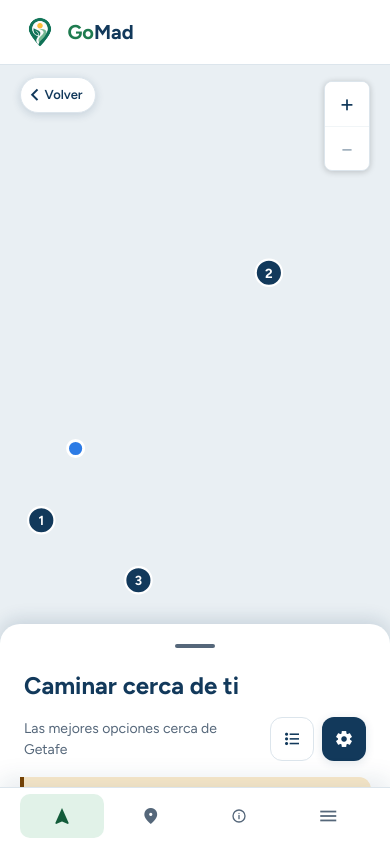
it: Resultados › permite arrastrar desde el asa aunque el contenido esté desplazado
Click the button named "Mostrar resultados": (195, 646) left=0, top=624, right=389, bottom=668
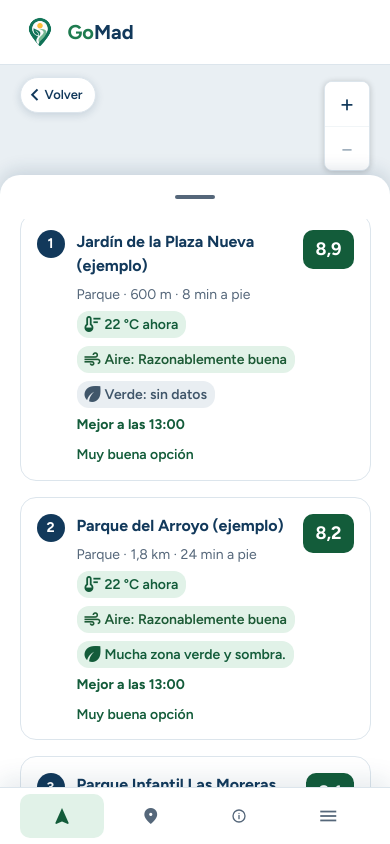
Press the mouse on the button named "Mostrar resultados": (195, 197) left=0, top=175, right=389, bottom=219
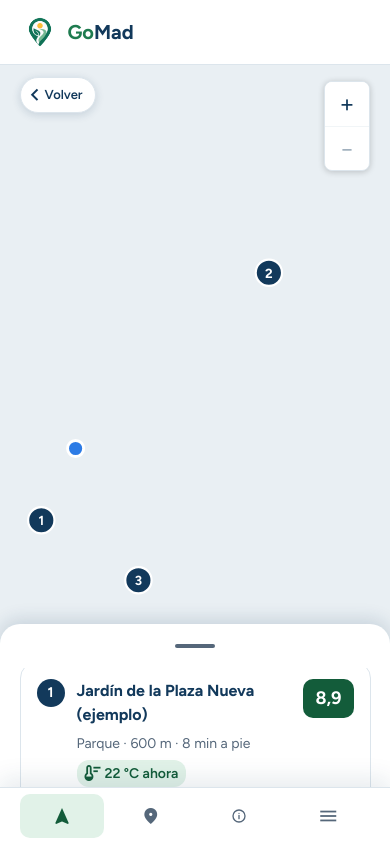
expect the button named "Mostrar resultados" is shown: met, box left=0, top=624, right=389, bottom=668
